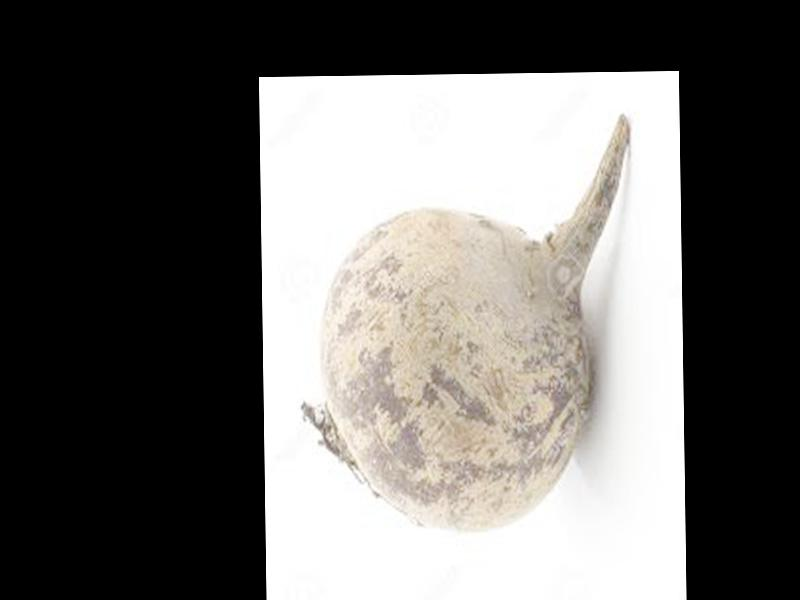Beet: (297, 116, 634, 535)
